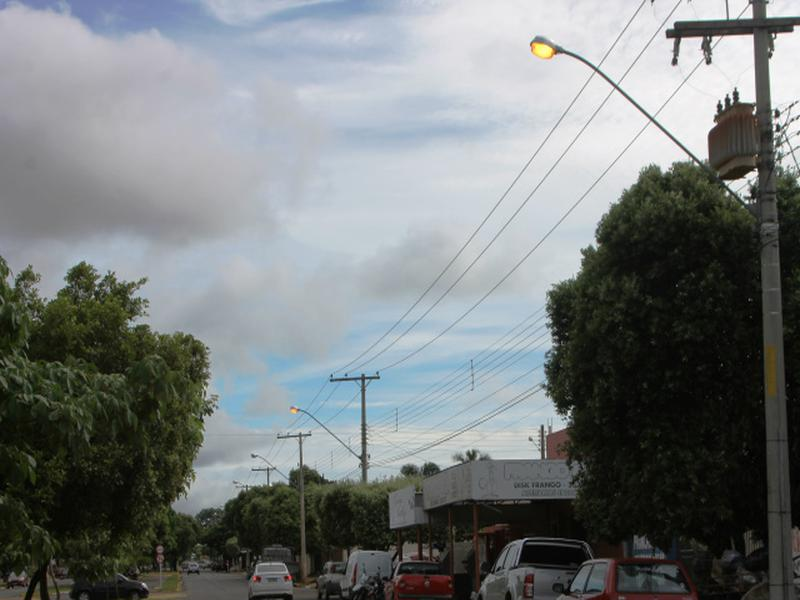IP: (521, 24, 699, 163), (277, 398, 354, 454)
